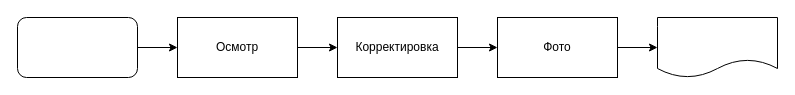
Image size: 795x95. Some labels were removed from this diagram. Each missing label, with the centre of its shape:
Приезд: the point at 77,47
Ручной отчёт: the point at 717,47
